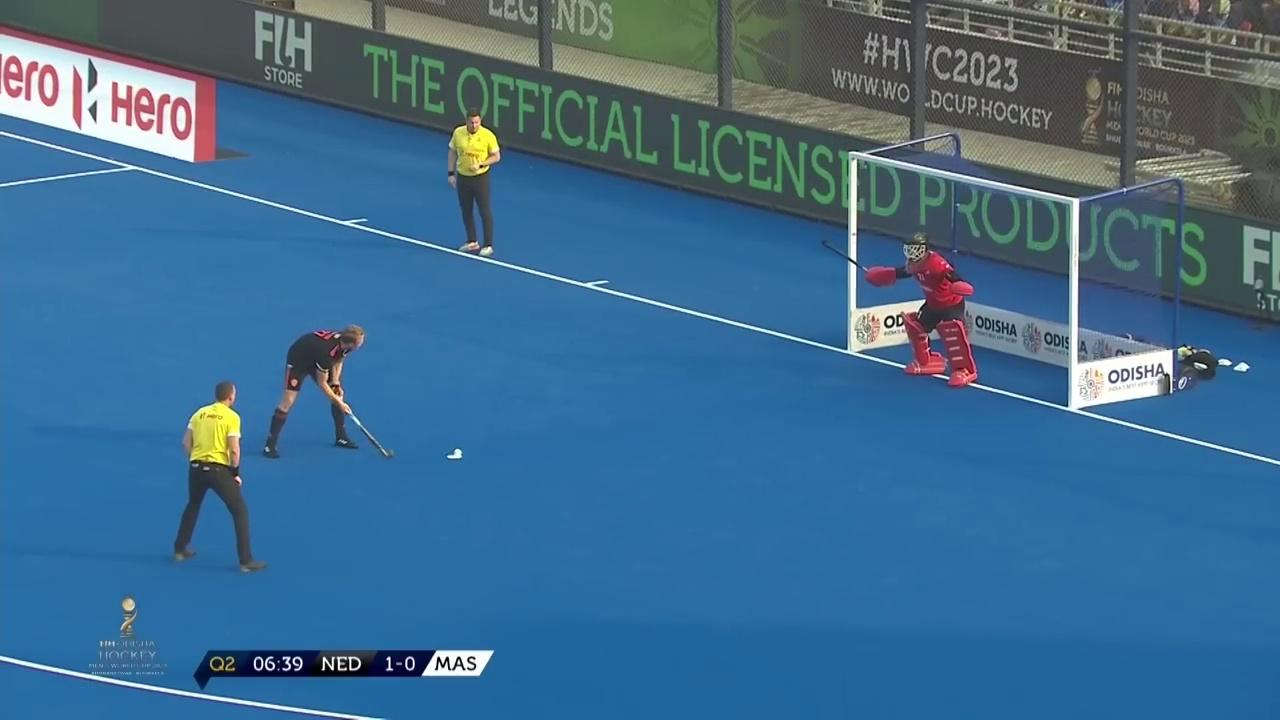ball: (436, 439, 479, 472)
